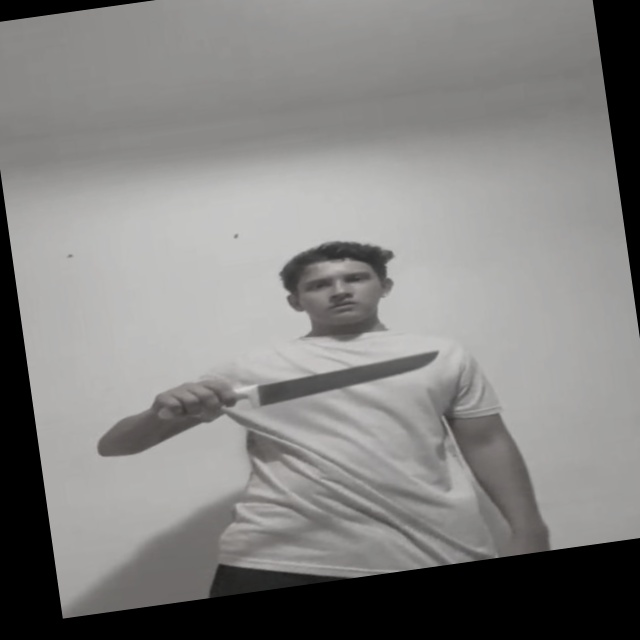Sharp-Object: (254, 344, 443, 409)
